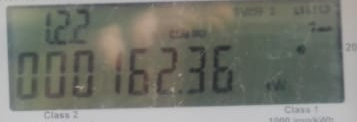digit: (204, 38, 236, 100), (179, 41, 209, 104), (149, 42, 179, 103), (127, 42, 154, 106), (68, 47, 96, 106), (42, 50, 68, 106), (101, 49, 127, 103), (11, 49, 36, 103)
